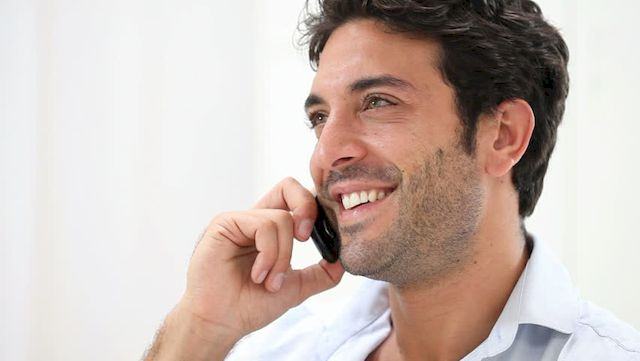phone: (301, 180, 348, 281)
talk: (187, 66, 468, 330)
